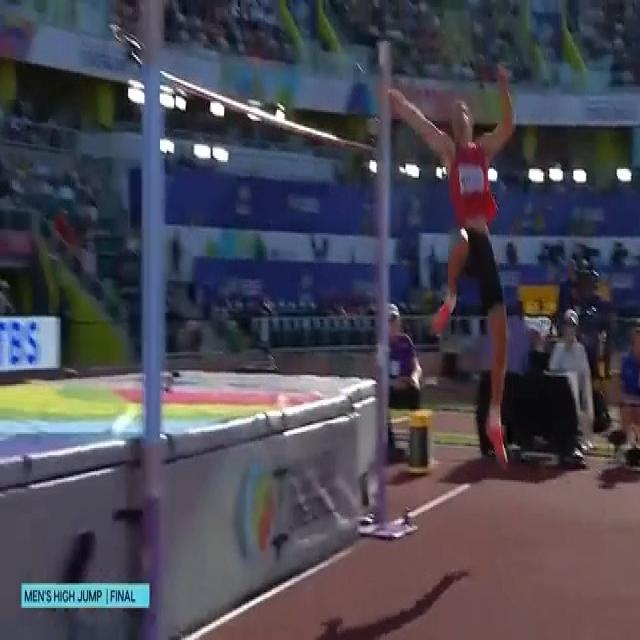jump: (386, 64, 514, 462)
